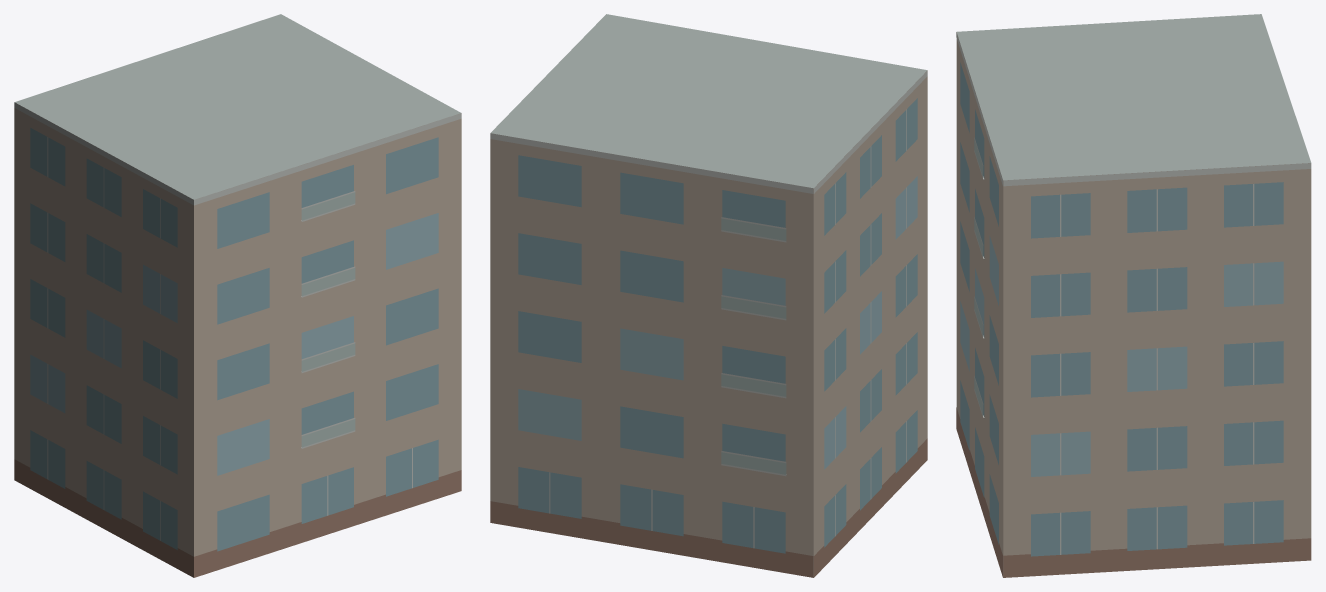
Rendered from survey-upis-32524524.glb.
The picture shows the model from 3 angles, left to right: view 1: azimuth 30°, elevation 25°; view 2: azimuth 150°, elevation 25°; view 3: azimuth 270°, elevation 25°; orthographic projection. The views are drawn at different scales.
Parts seen in each view (by area): view 1: survey-upis-32524524.tmp; view 2: survey-upis-32524524.tmp; view 3: survey-upis-32524524.tmp.
Boxes of the visible parts, x1,y1,x2,y2 form: survey-upis-32524524.tmp: [14, 14, 461, 577]; survey-upis-32524524.tmp: [490, 14, 927, 577]; survey-upis-32524524.tmp: [956, 14, 1311, 577].
Bounding box in the file's own units: 14.64 × 16.3 × 13.2.
